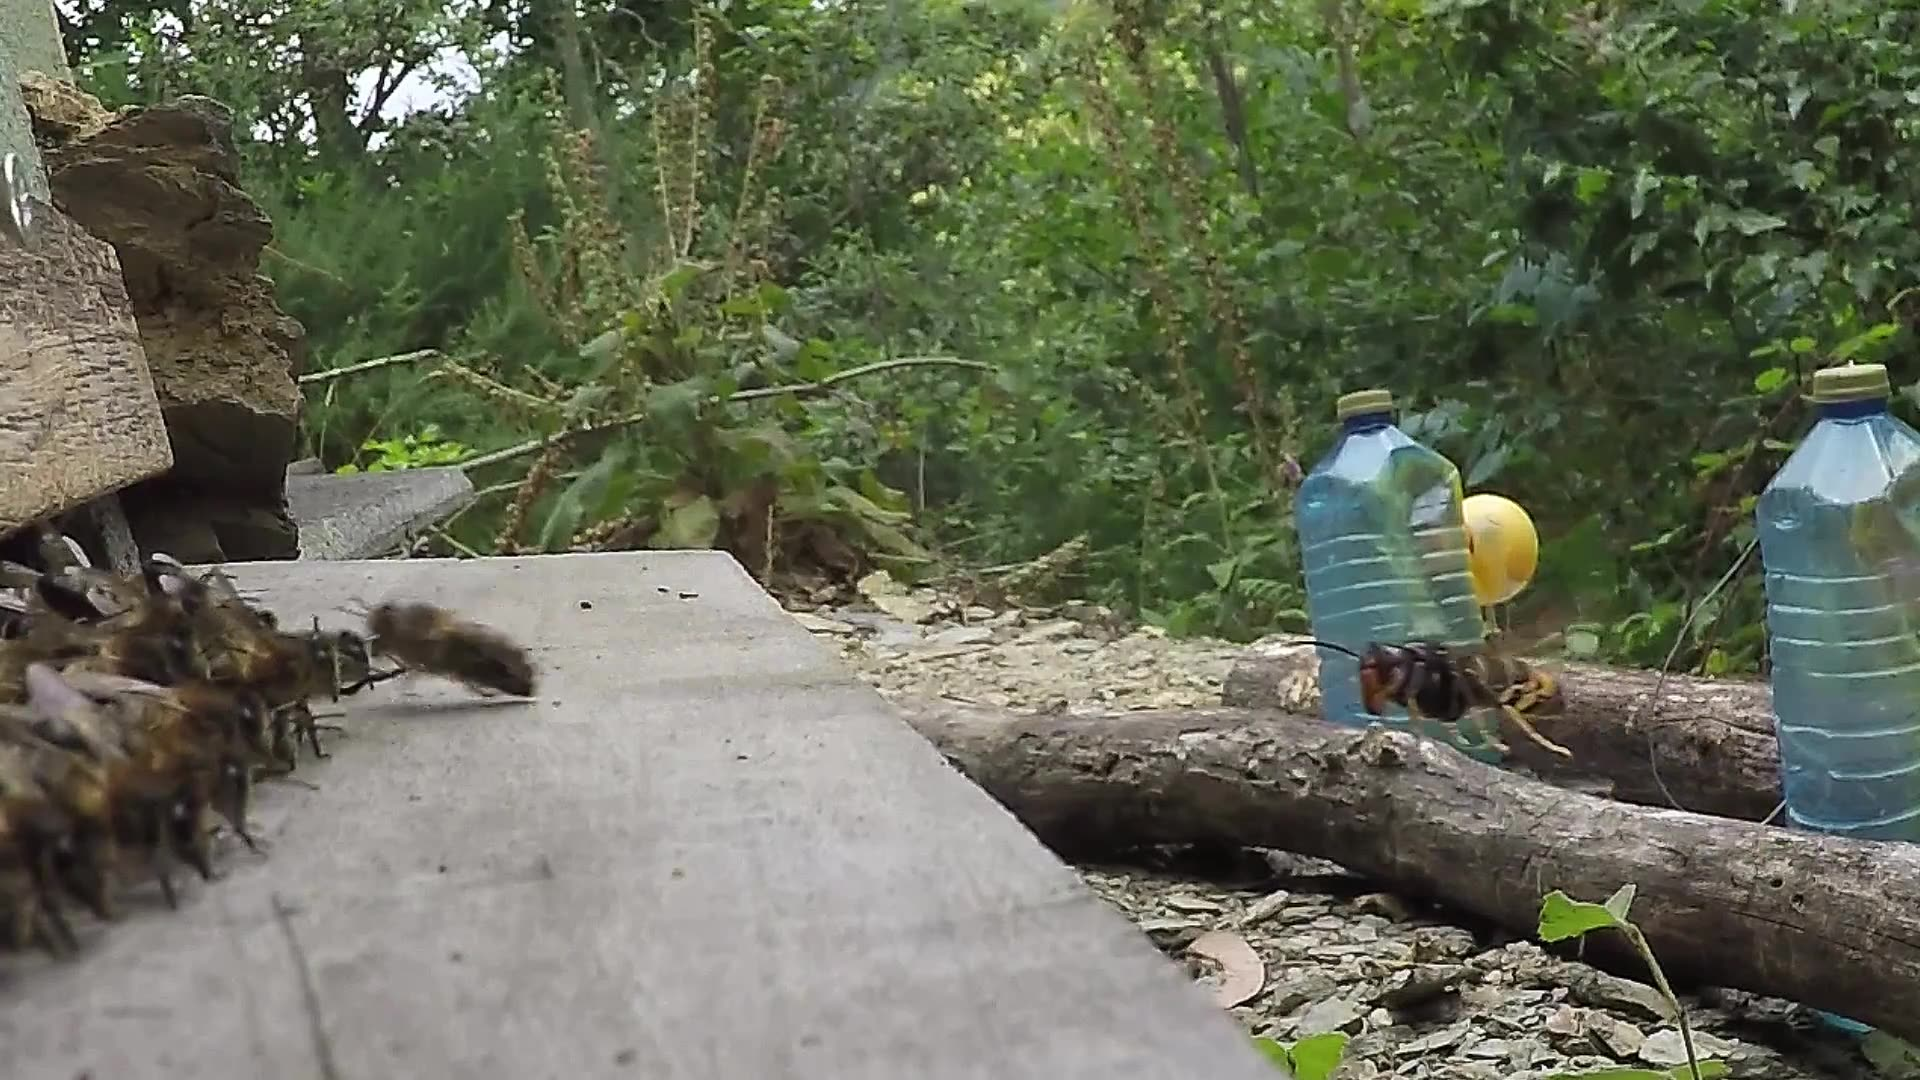bee: (1, 534, 342, 938), (347, 589, 549, 705)
hornet: (1341, 626, 1593, 760)
